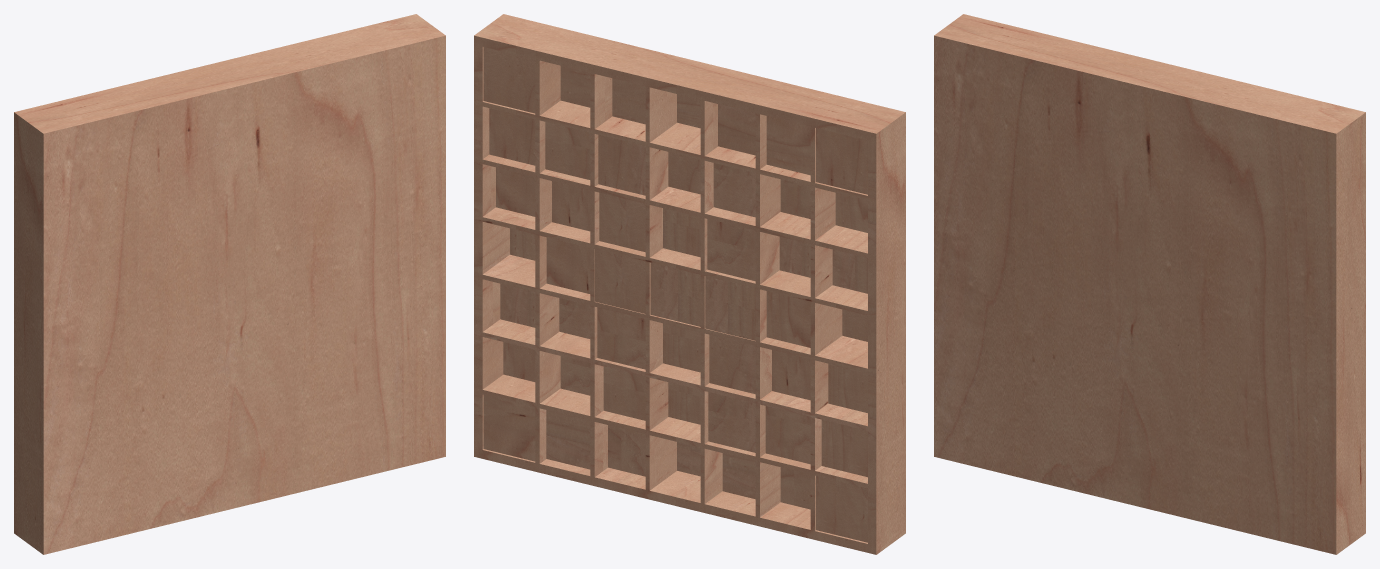
Rendered from RealDiff HDS.glb.
3 renders of one model, left to right at view 1: azimuth 30°, elevation 25°; view 2: azimuth 150°, elevation 25°; view 3: azimuth 330°, elevation 25°, orthographic.
Visible parts, largest first — view 1: RealDiff HDS; view 2: RealDiff HDS; view 3: RealDiff HDS.
Part boxes in pixels (box(x1,y1,x2,y2)): RealDiff HDS: box(14, 14, 445, 554); RealDiff HDS: box(474, 14, 905, 554); RealDiff HDS: box(934, 14, 1365, 554).
Bounding box in the file's own units: 23.62 × 23.62 × 3.
Materials: 1 (1 with a texture image).
